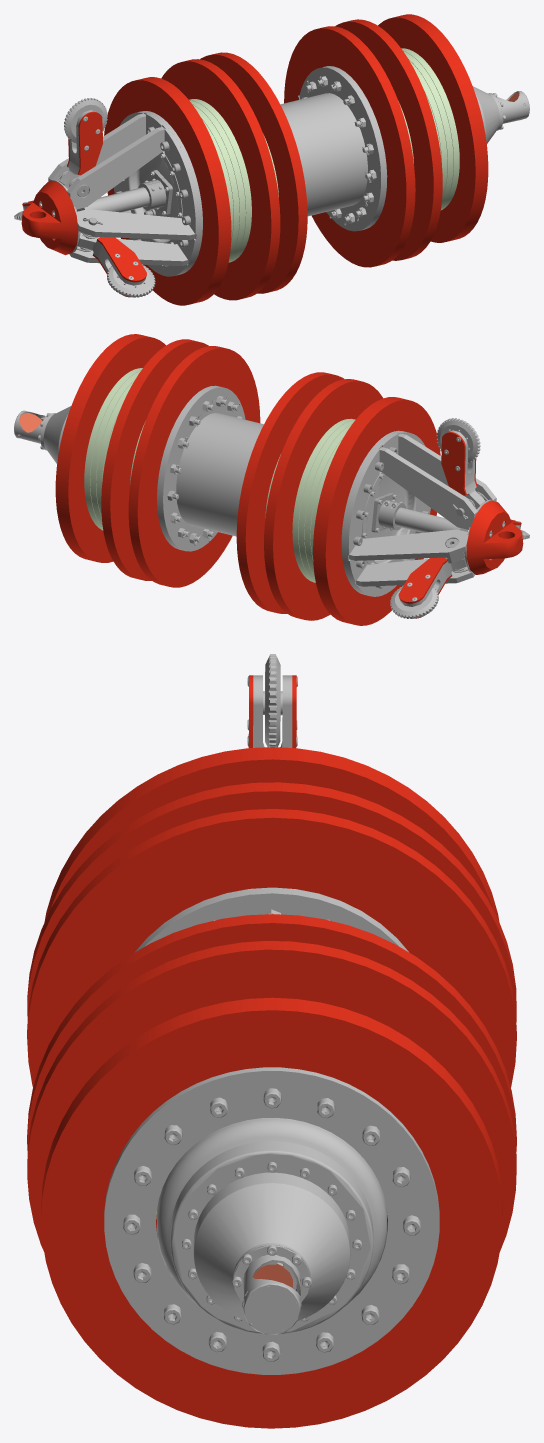
Rendered from UTR.glb.
The picture shows the model from 3 angles, top to bottom: view 1: azimuth 30°, elevation 25°; view 2: azimuth 150°, elevation 25°; view 3: azimuth 270°, elevation 25°; orthographic projection. The views are drawn at different scales.
Parts seen in each view (by area): view 1: 14 inch UT-R (length 820mm), 14 inch UT-R (length 820mm).001; view 2: 14 inch UT-R (length 820mm), 14 inch UT-R (length 820mm).001; view 3: 14 inch UT-R (length 820mm), 14 inch UT-R (length 820mm).001.
Boxes of the visible parts, box(x1,y1,x2,y2) form: 14 inch UT-R (length 820mm): box(14, 14, 505, 305); 14 inch UT-R (length 820mm).001: box(497, 91, 529, 123); 14 inch UT-R (length 820mm): box(38, 334, 529, 625); 14 inch UT-R (length 820mm).001: box(14, 410, 46, 443); 14 inch UT-R (length 820mm): box(27, 654, 516, 1428); 14 inch UT-R (length 820mm).001: box(243, 1254, 300, 1334).
Size of the model in its own units: 13.18 by 5.65 by 5.62.
